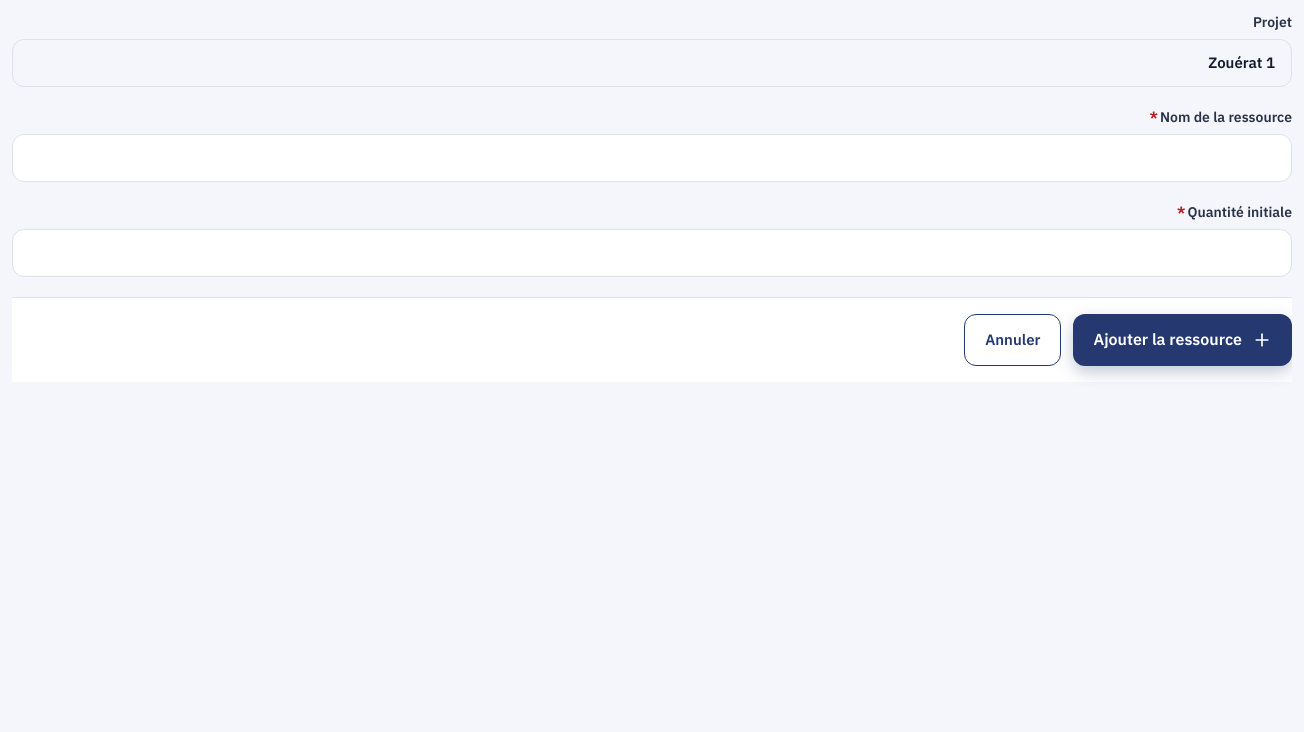
Test: ResourceForm › asks the price of an initial quantity that comes from a supplier
In the field labelled "Nom de la ressource": (652, 158) 12,134 -> 1292,182, type "Gasoil"
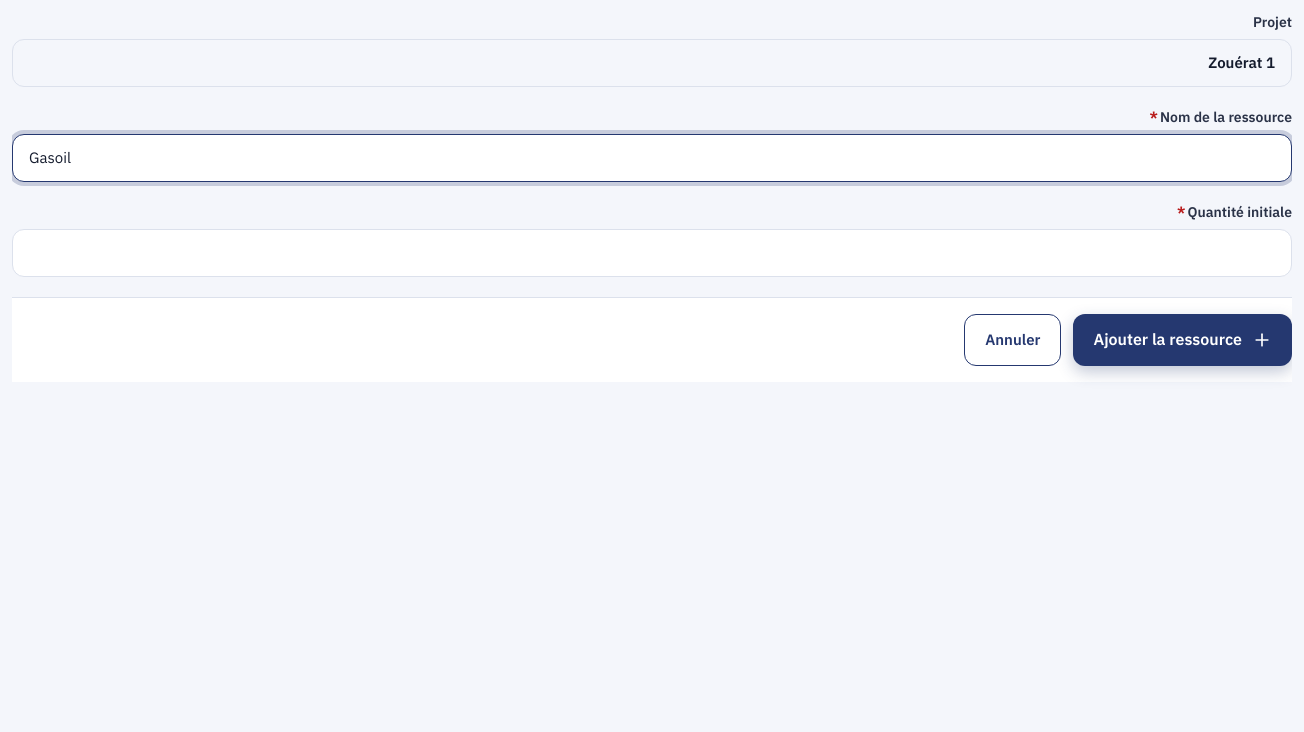
In the number field labelled "Quantité initiale": (652, 253) 12,229 -> 1292,277, type "100"
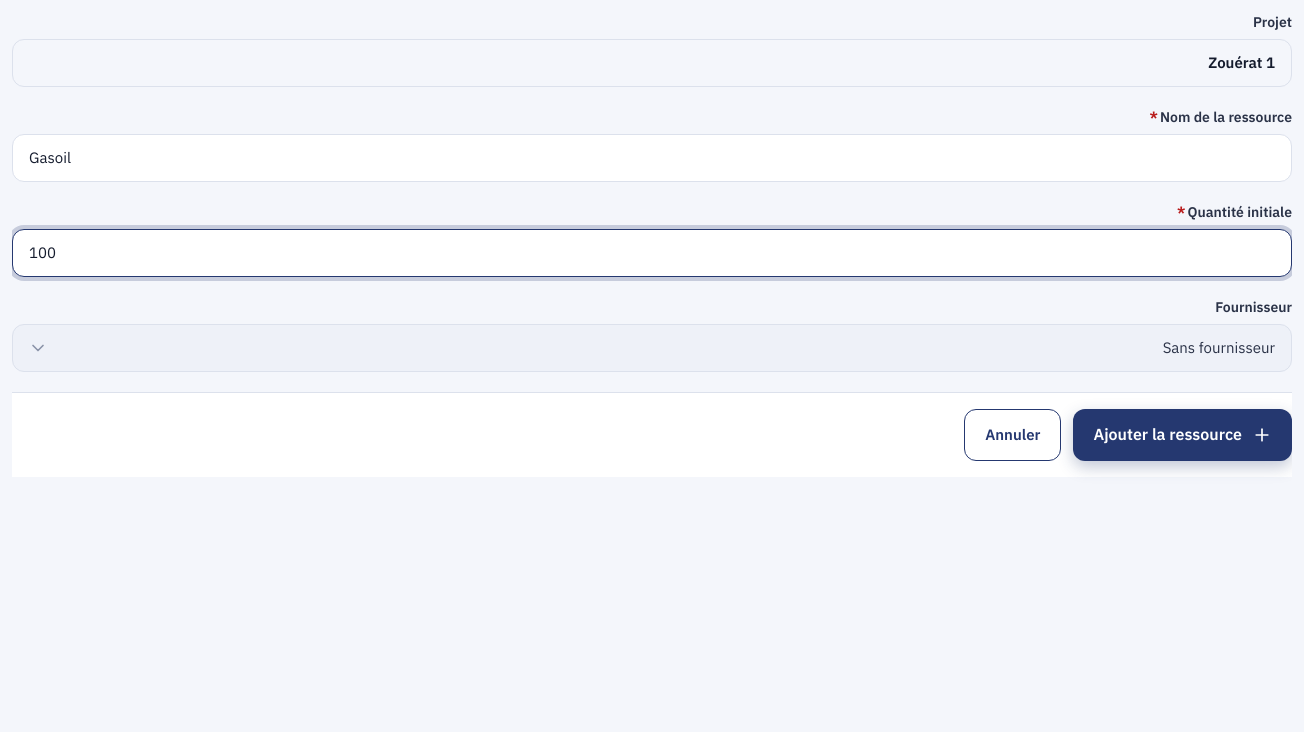
Select "Sidi Fournitures" in the dropdown labelled "Fournisseur": (652, 348) 12,324 -> 1292,372
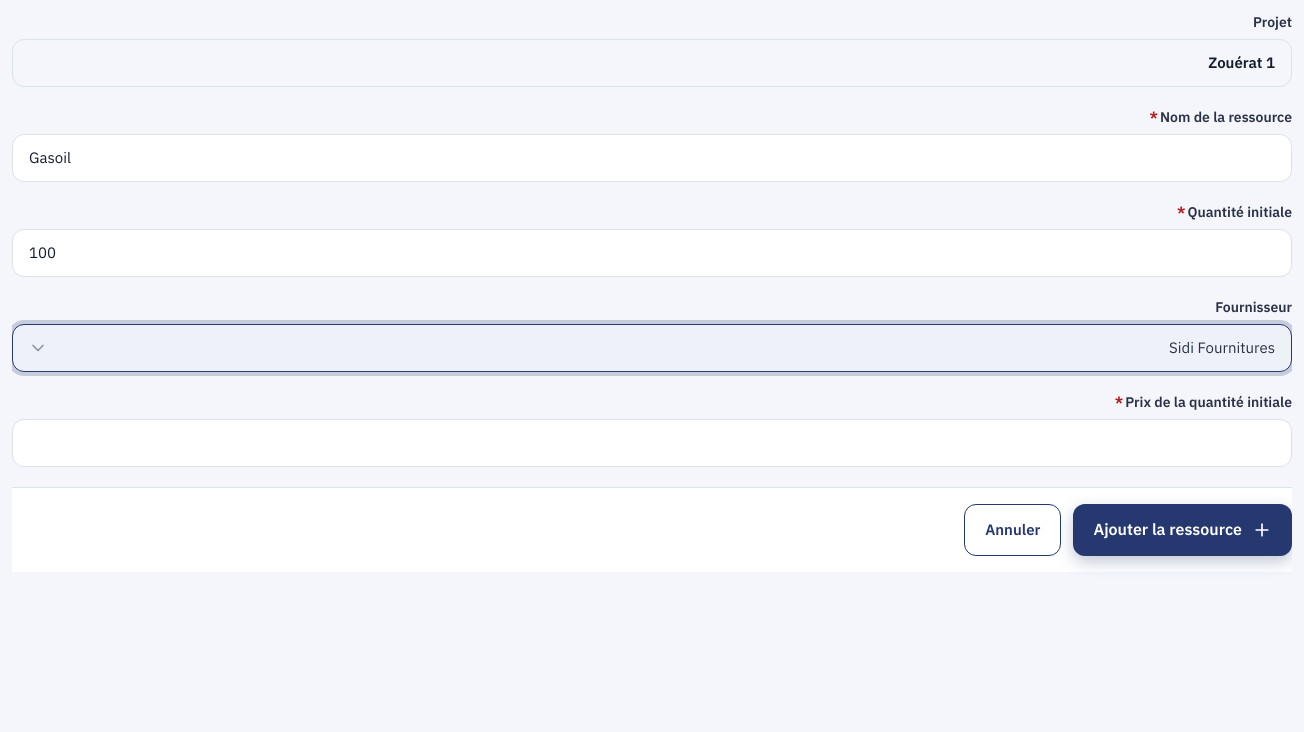
Click the button "Ajouter la ressource": (1183, 530) 1073,504 -> 1292,556
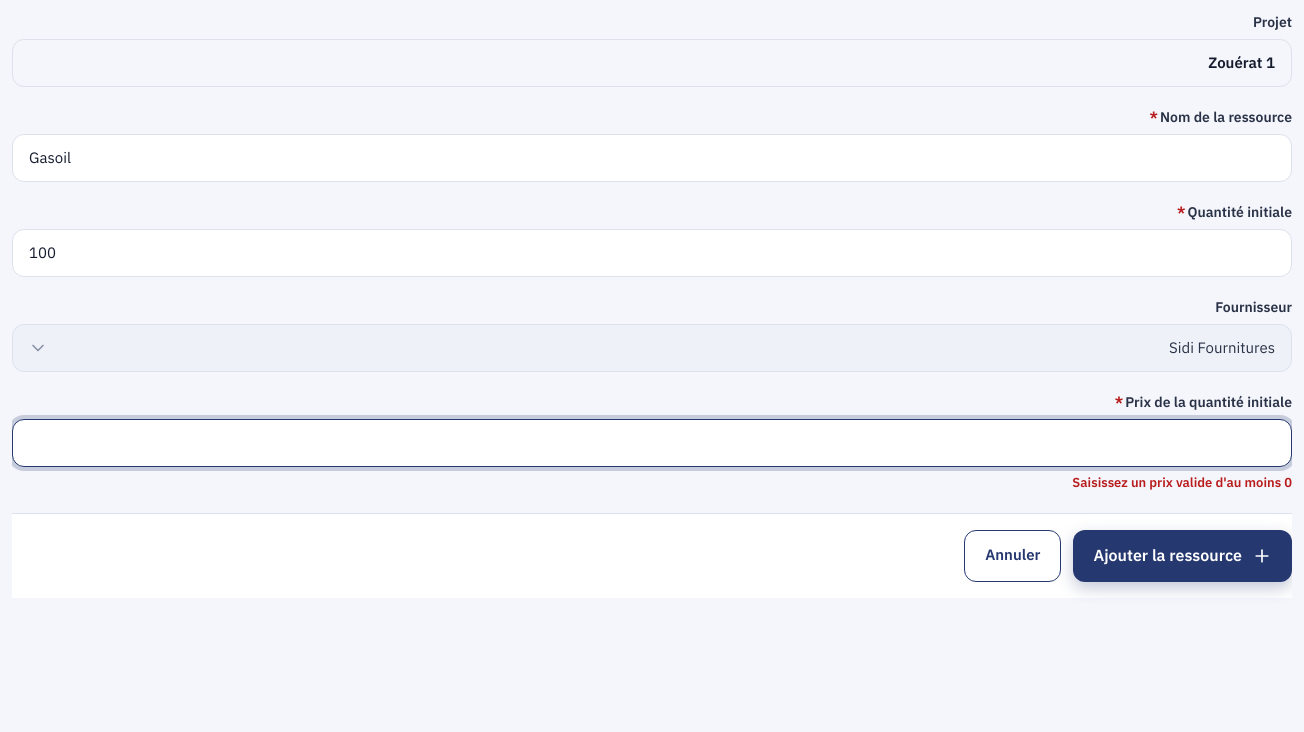
Result: the text "Saisissez un prix valide d'au moins 0" is shown at 1072,473 -> 1292,492
